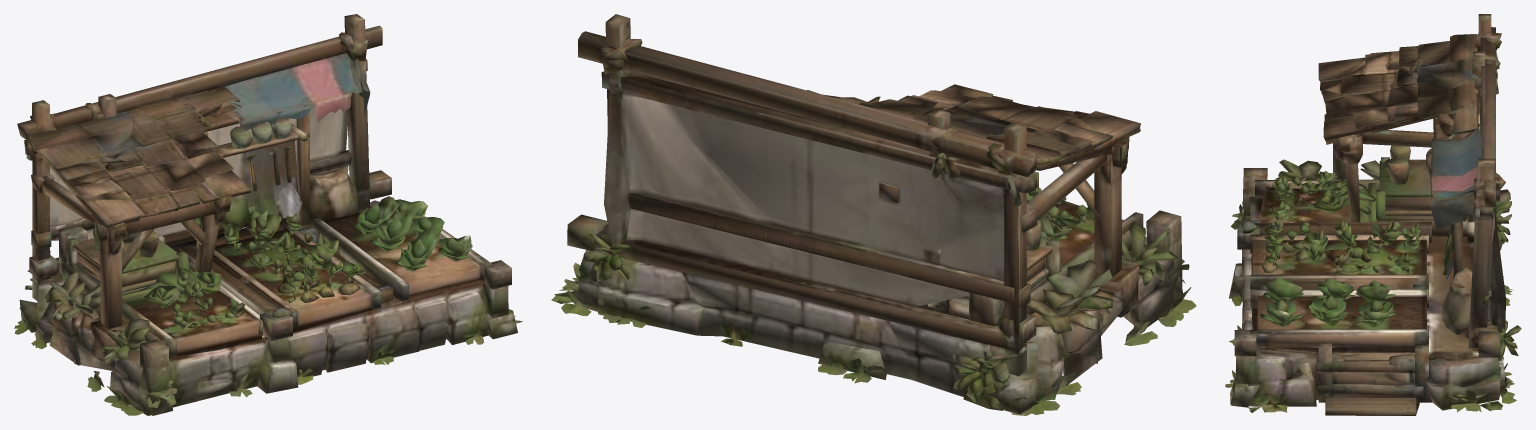
Rendered from shelter_t2_garden.glb.
The picture shows the model from 3 angles, left to right: view 1: azimuth 30°, elevation 25°; view 2: azimuth 150°, elevation 25°; view 3: azimuth 270°, elevation 25°; orthographic projection. The views are drawn at different scales.
Bounding box in the file's own units: 0.3765 × 0.206 × 0.2417.
1 material, 1 textured.
